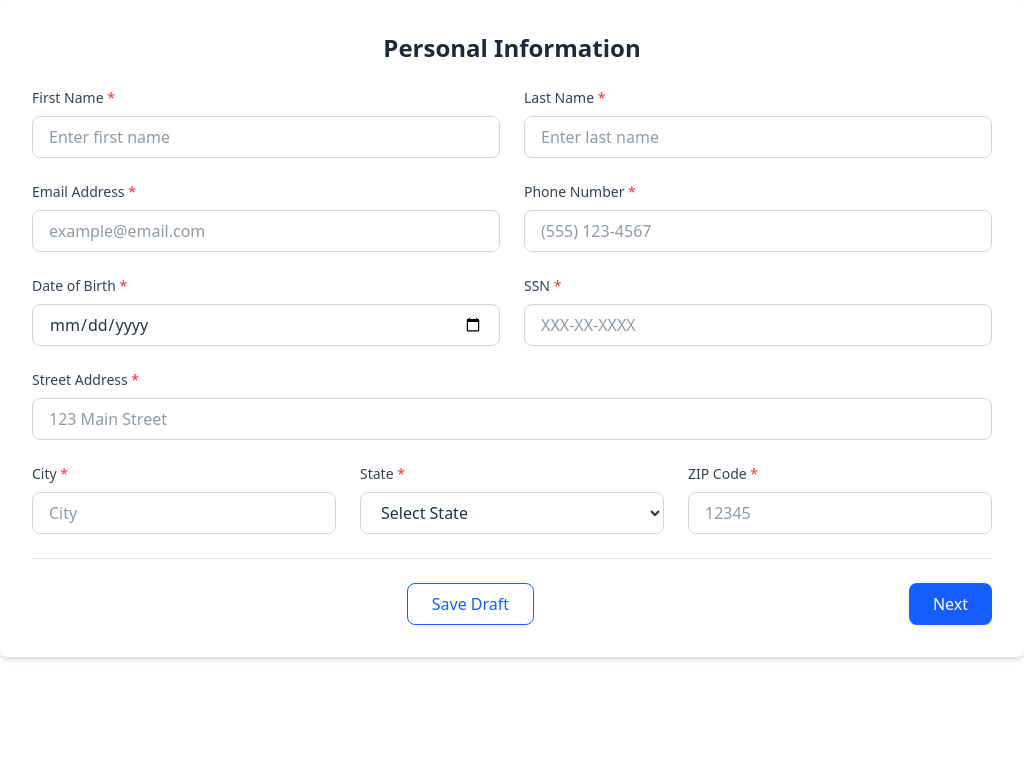
it: PersonalInformation Component › Validation - Required Fields › should show error when first name is empty
The width and height of the screenshot is (1024, 768).
Click the button "Next".
click(950, 604)  # box [909,583,992,625]
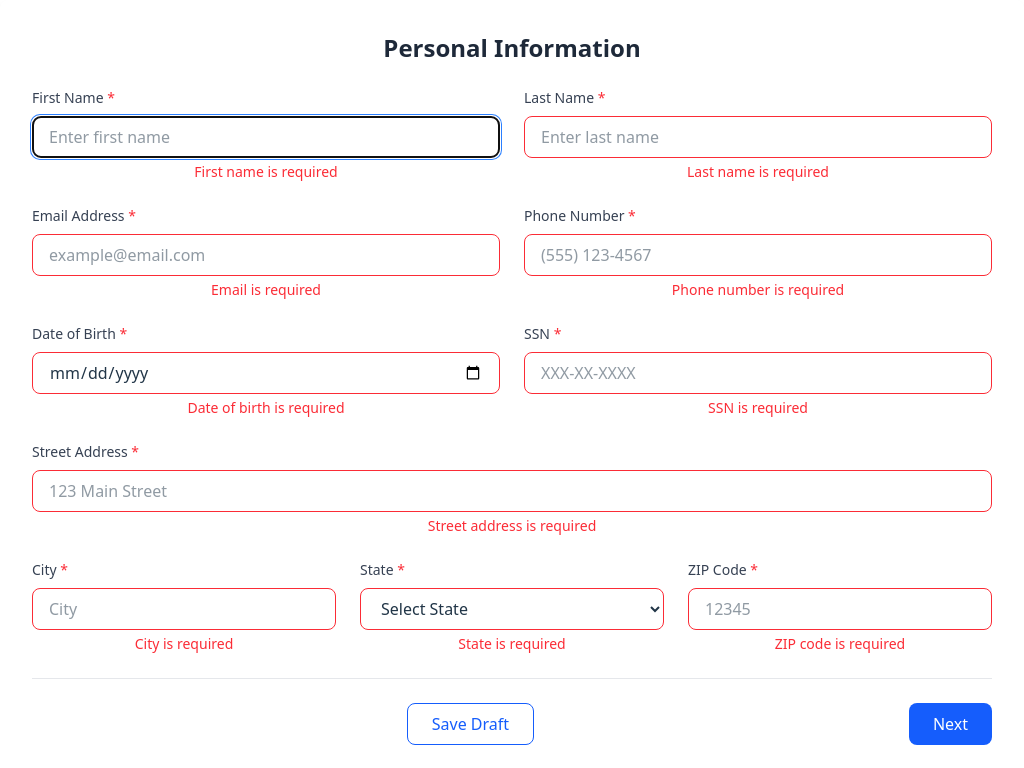
Result: the text "First name is required" is shown at [194,162,338,181]
